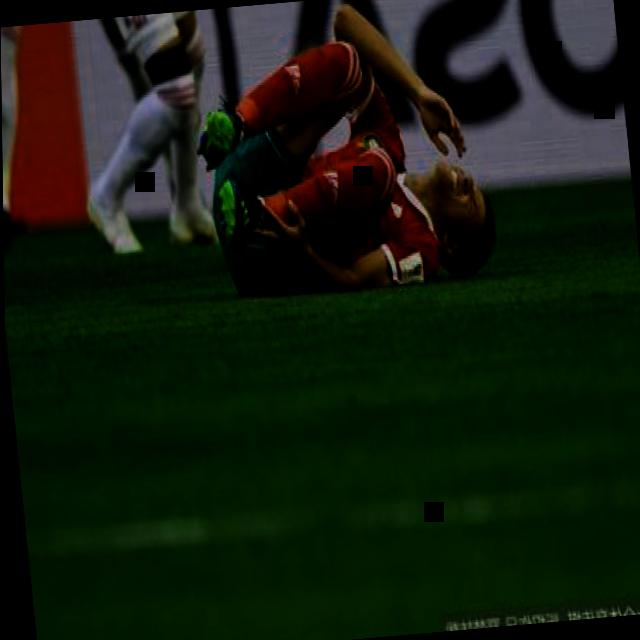Fall-Detected: (178, 0, 513, 314)
